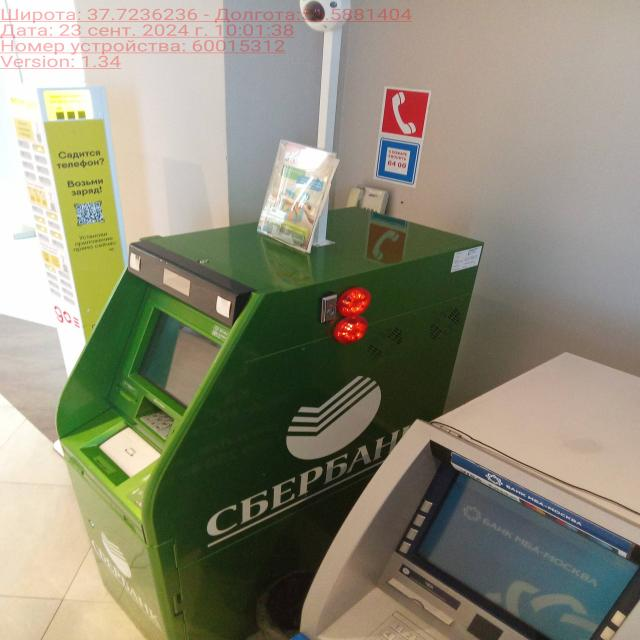bank: (52, 203, 487, 640)
